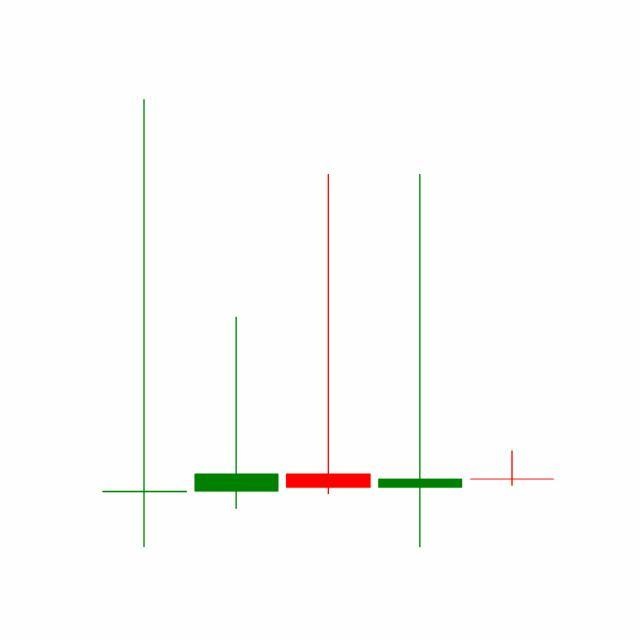Spinning Top: (374, 170, 468, 552)
